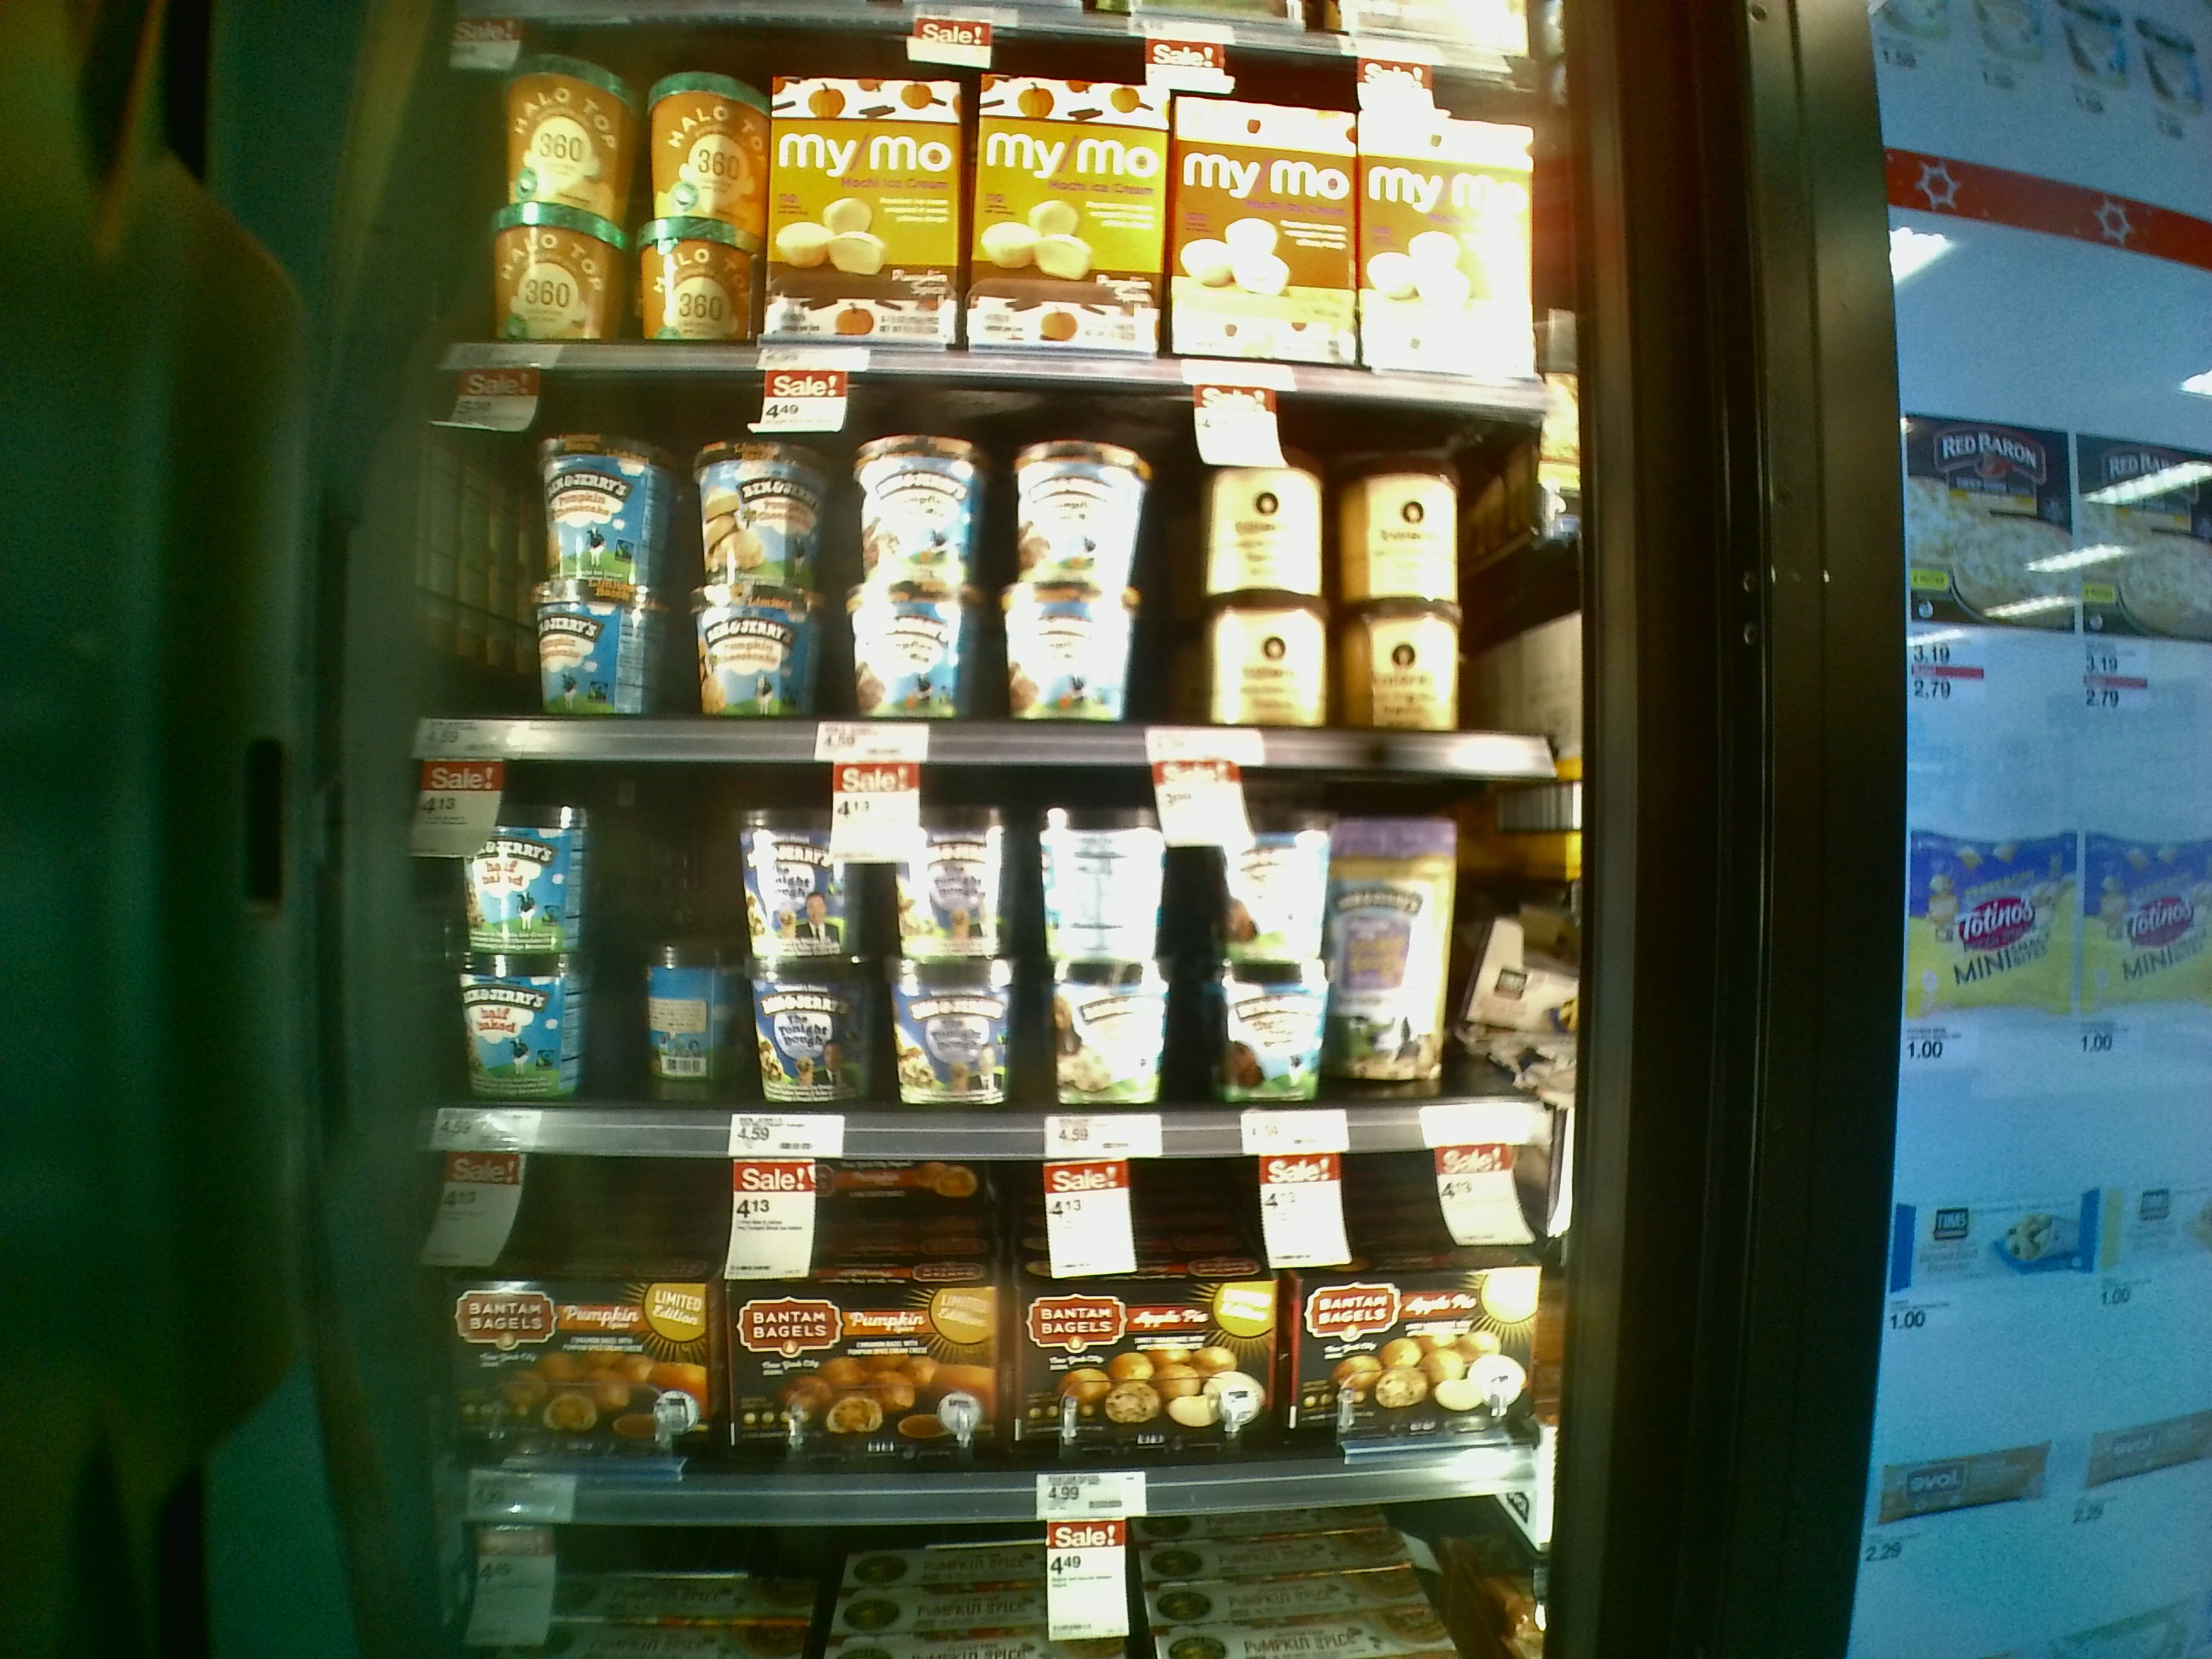shelf: (387, 342, 1581, 784), (366, 1107, 1561, 1518), (380, 741, 1575, 1148)
